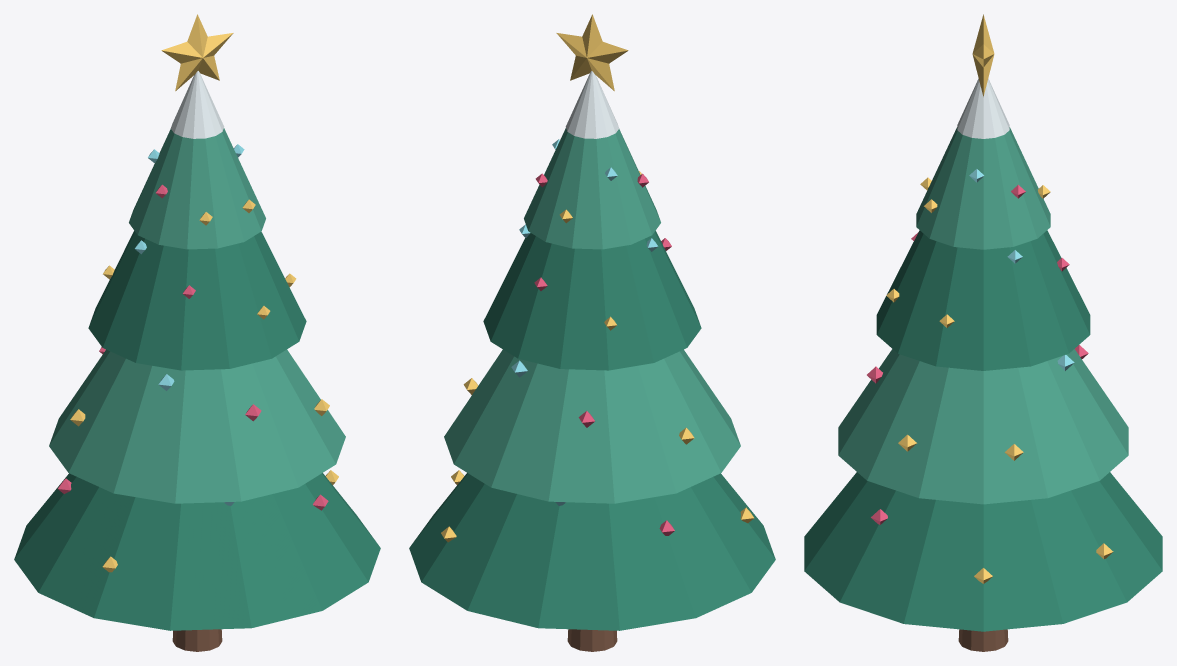
File: christmas-pine.glb
3 views of the same model, side by side, from view 1: azimuth 30°, elevation 25°; view 2: azimuth 150°, elevation 25°; view 3: azimuth 270°, elevation 25° (orthographic).
Parts seen in each view (by area): view 1: Evergreen, Fir tips, Gold, Fresh snow, Cedar, Cranberry; view 2: Evergreen, Fir tips, Gold, Fresh snow, Cedar, Cranberry, Ice bauble; view 3: Evergreen, Fir tips, Gold, Fresh snow, Cedar, Cranberry.
Boxes of the visible parts, <box> form: Evergreen: <box>14,230,380,630</box>; Fir tips: <box>49,128,345,503</box>; Gold: <box>70,14,338,572</box>; Fresh snow: <box>170,71,224,138</box>; Cedar: <box>172,629,222,651</box>; Cranberry: <box>58,184,328,510</box>; Evergreen: <box>409,230,775,630</box>; Fir tips: <box>444,128,740,503</box>; Gold: <box>441,14,753,542</box>; Fresh snow: <box>565,71,619,138</box>; Cedar: <box>567,629,617,651</box>; Cranberry: <box>534,173,674,535</box>; Ice bauble: <box>511,139,658,505</box>; Evergreen: <box>804,230,1162,631</box>; Fir tips: <box>838,127,1128,504</box>; Gold: <box>886,14,1113,583</box>; Fresh snow: <box>957,79,1009,138</box>; Cedar: <box>958,629,1008,651</box>; Cranberry: <box>867,184,1088,524</box>.
Bounding box in the file's own units: 4 × 7.53 × 3.9.
